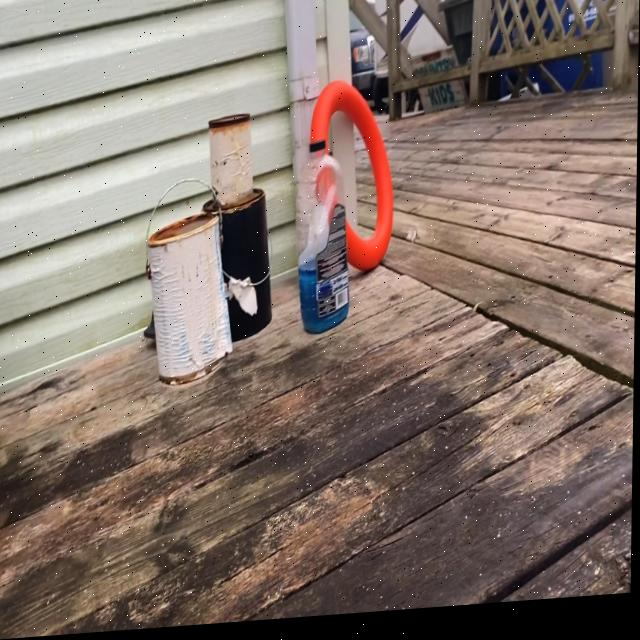note: (307, 78, 400, 285)
